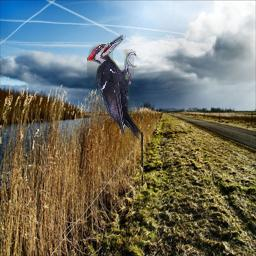Woodpecker: (87, 35, 141, 140)
